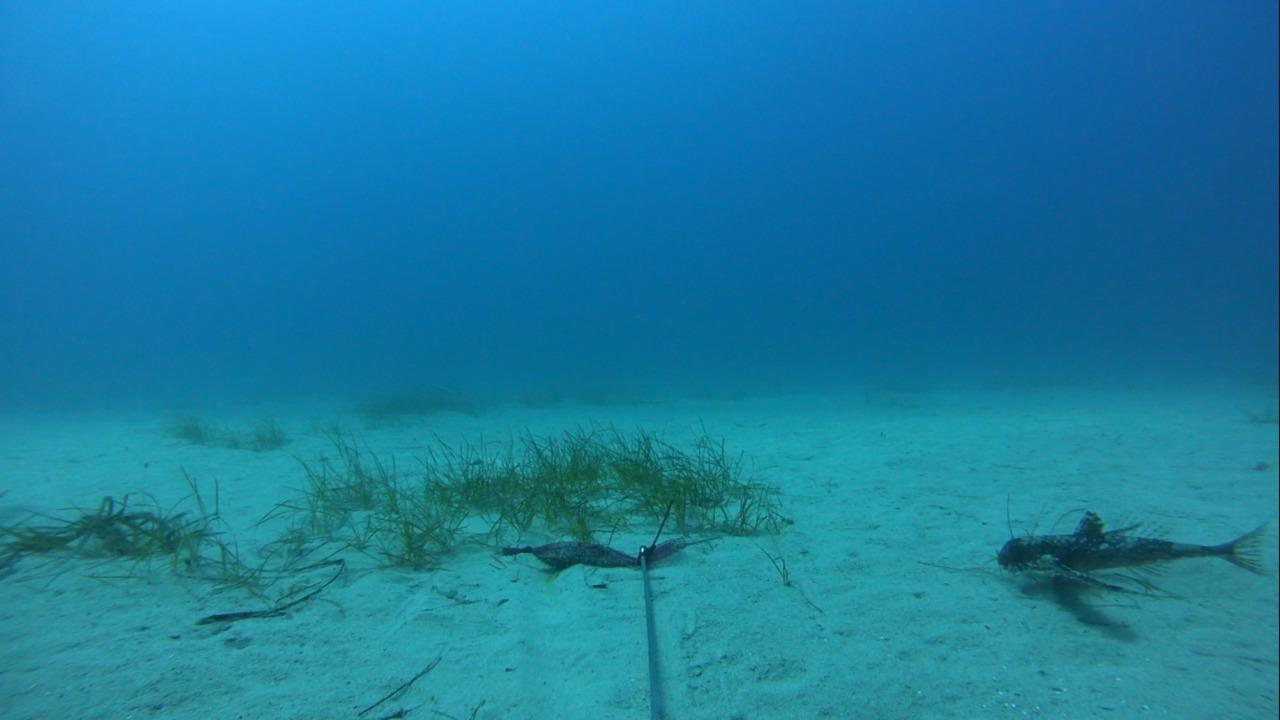dactylopterus: (987, 502, 1274, 609)
